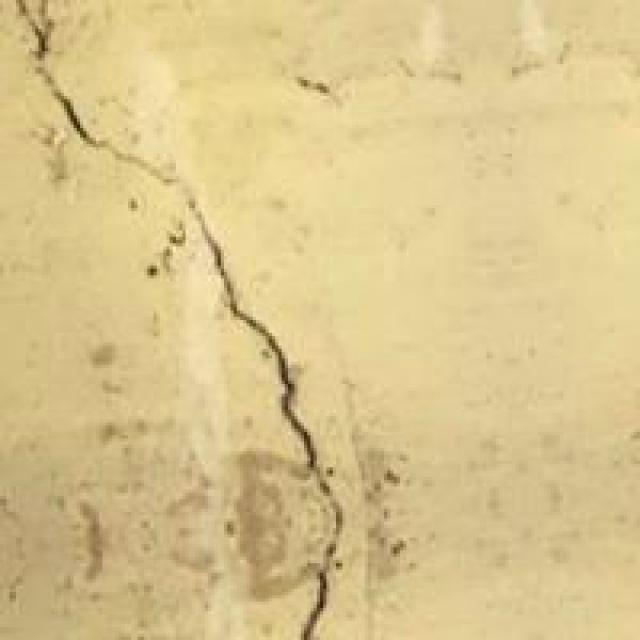crack: (18, 0, 368, 640)
